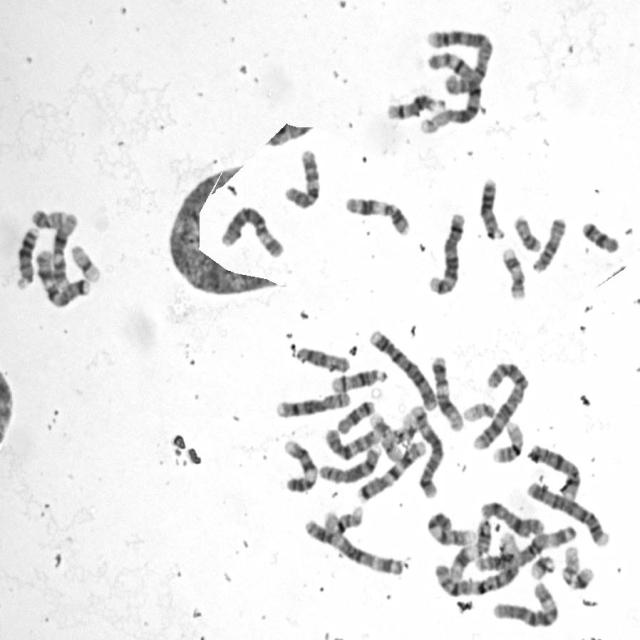A1: (432, 528, 521, 599), (418, 47, 482, 134)
A2: (470, 358, 530, 452), (425, 28, 495, 98)
A3: (301, 515, 405, 578), (471, 522, 579, 573)
B4: (366, 326, 438, 412), (524, 478, 610, 548)
B5: (425, 210, 467, 297), (405, 404, 443, 499)
C10: (280, 145, 323, 212), (320, 422, 385, 462)
C11: (342, 193, 414, 239), (446, 516, 493, 580)
C12: (428, 352, 465, 432), (48, 208, 80, 288)
C6: (218, 202, 287, 260), (488, 579, 562, 629)
C7: (354, 439, 427, 503), (33, 248, 91, 308)
C8: (315, 444, 384, 486), (272, 388, 352, 419)
C9: (278, 436, 319, 494), (424, 508, 477, 548)
D13: (477, 174, 506, 242), (13, 223, 40, 290)
D14: (384, 90, 446, 121), (328, 365, 388, 394)
D15: (529, 214, 567, 274), (293, 343, 352, 374)
E16: (490, 418, 525, 464), (320, 503, 365, 537)
E17: (368, 409, 403, 466), (499, 244, 527, 303)
E18: (334, 397, 376, 435), (579, 218, 620, 255)
F19: (68, 242, 102, 284), (393, 410, 419, 447)
F20: (512, 213, 542, 252), (29, 206, 69, 230)
G21: (528, 552, 556, 580), (570, 566, 595, 592)
G22: (461, 399, 497, 423), (561, 546, 580, 588)
X: (524, 442, 582, 502), (477, 498, 546, 538)
